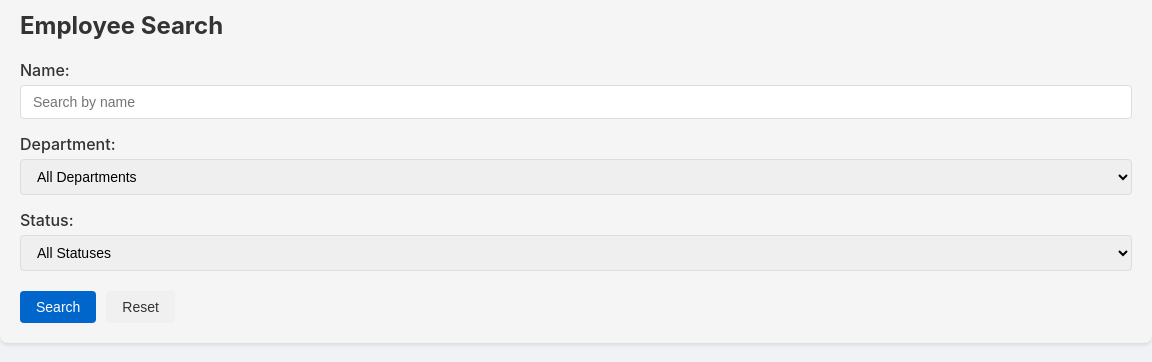
Test: SearchComponent › handles reset button click
The image size is (1152, 362).
Fill the form
Type "John" into the field labelled "Name:" at [576, 102], box top-left (20, 85), bottom-right (1132, 119)
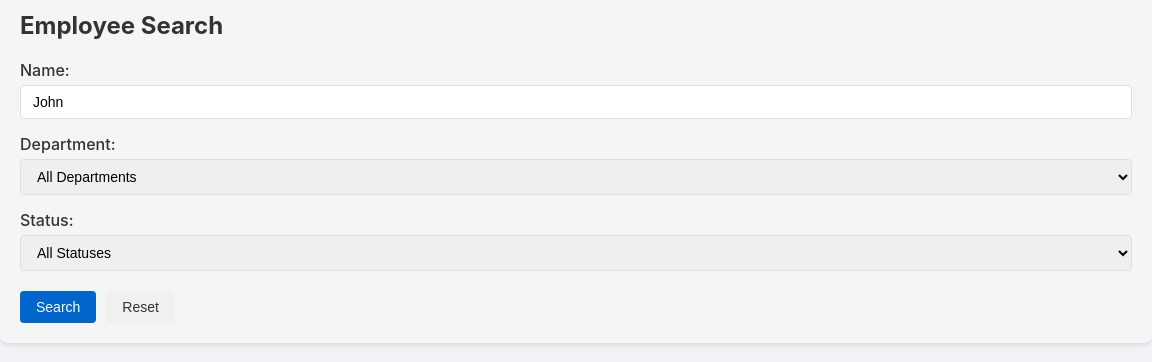
Click the reset button
Click the button "Reset" at [141, 307], box top-left (106, 291), bottom-right (175, 323)
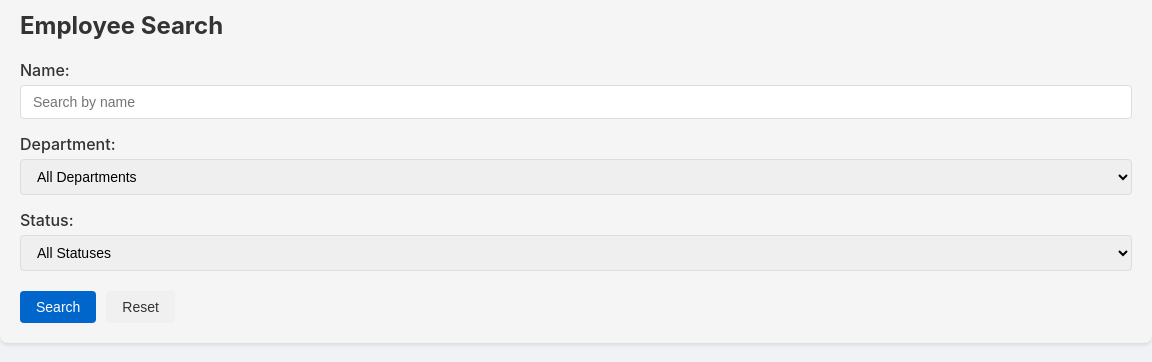
Now the field labelled "Name:" is empty, box top-left (20, 85), bottom-right (1132, 119)
